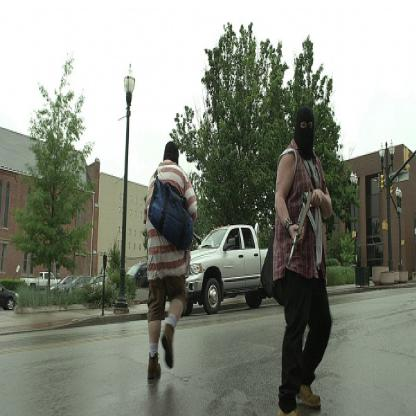Guns: (285, 187, 318, 267)
